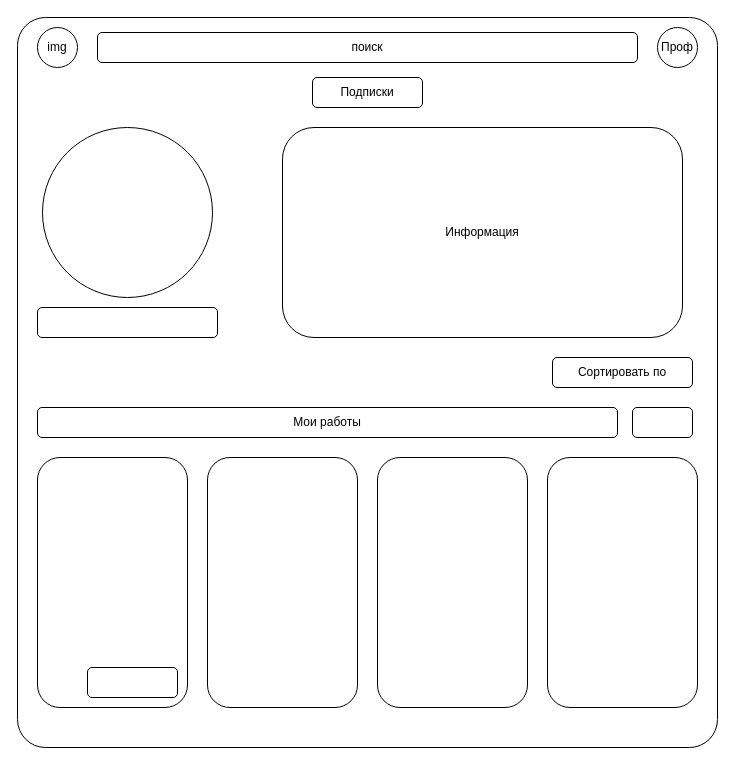
This 735x765 diagram has some shape labels left out. Here are the shapes that lost their labels. From the top down, the box of each, then its label:
(36, 306, 218, 338): Name
(632, 406, 692, 438): Число подписок
(86, 666, 178, 698): Лайки, просмотры
